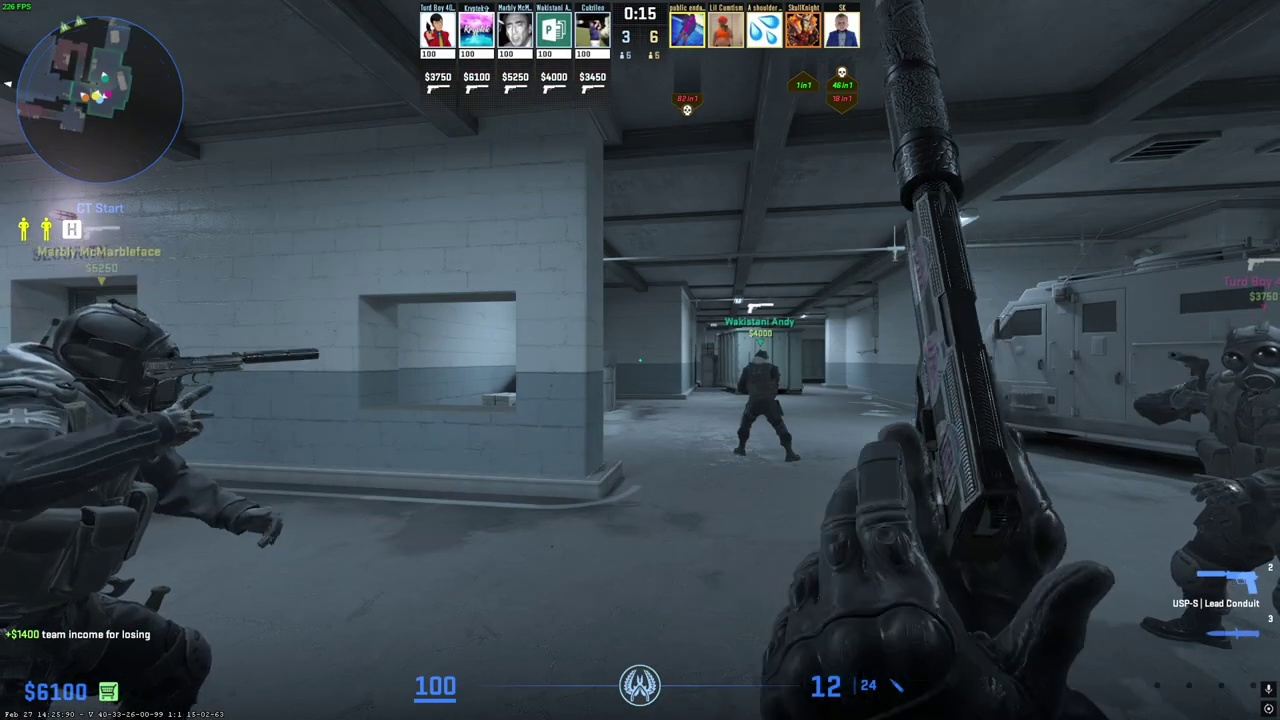CT: (0, 301, 228, 720), (1154, 323, 1280, 646), (734, 349, 792, 462)
